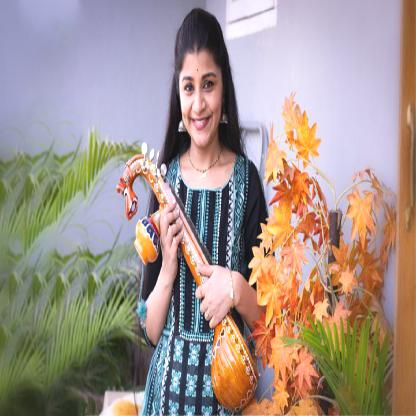Veena: (130, 146, 255, 405)
